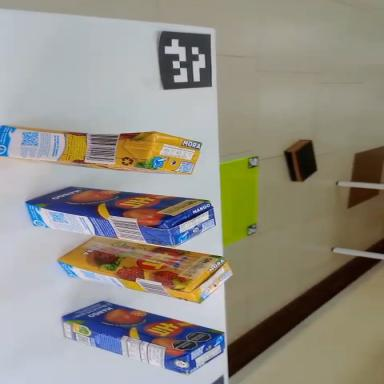HIT-MANGO: (57, 291, 227, 382), (23, 182, 218, 251)
HIT-MORA: (55, 230, 234, 308), (0, 126, 202, 175)
cara_F: (61, 291, 224, 361), (57, 230, 222, 293), (25, 181, 210, 227)
